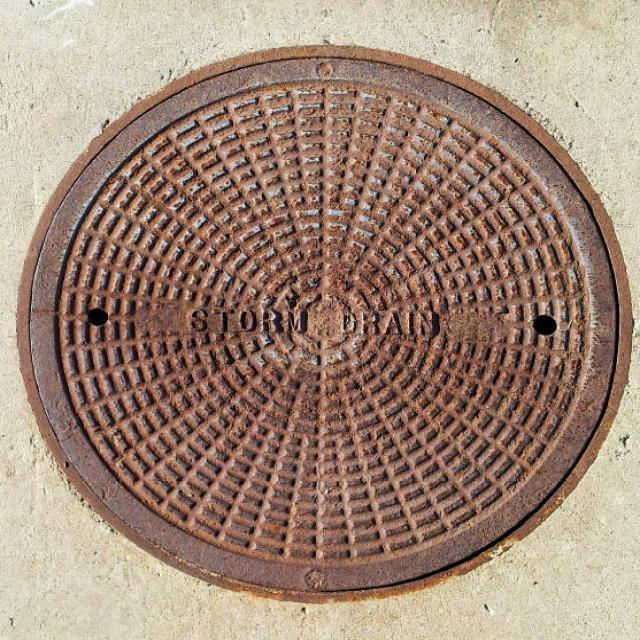Good: (23, 52, 634, 601)
